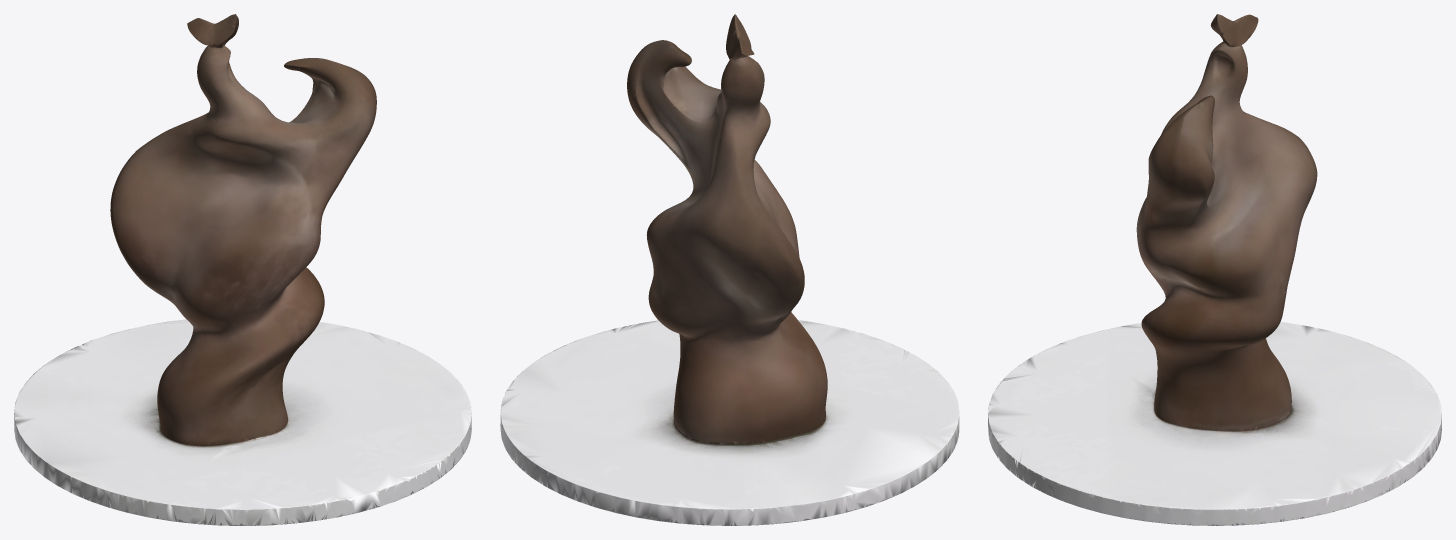
File: skulptur-pilot.glb
3 views of the same model, side by side, from view 1: azimuth 30°, elevation 25°; view 2: azimuth 150°, elevation 25°; view 3: azimuth 270°, elevation 25° (orthographic).
Size of the model in its own units: 1.89 by 1.9 by 1.89.
1 material, 1 textured.
